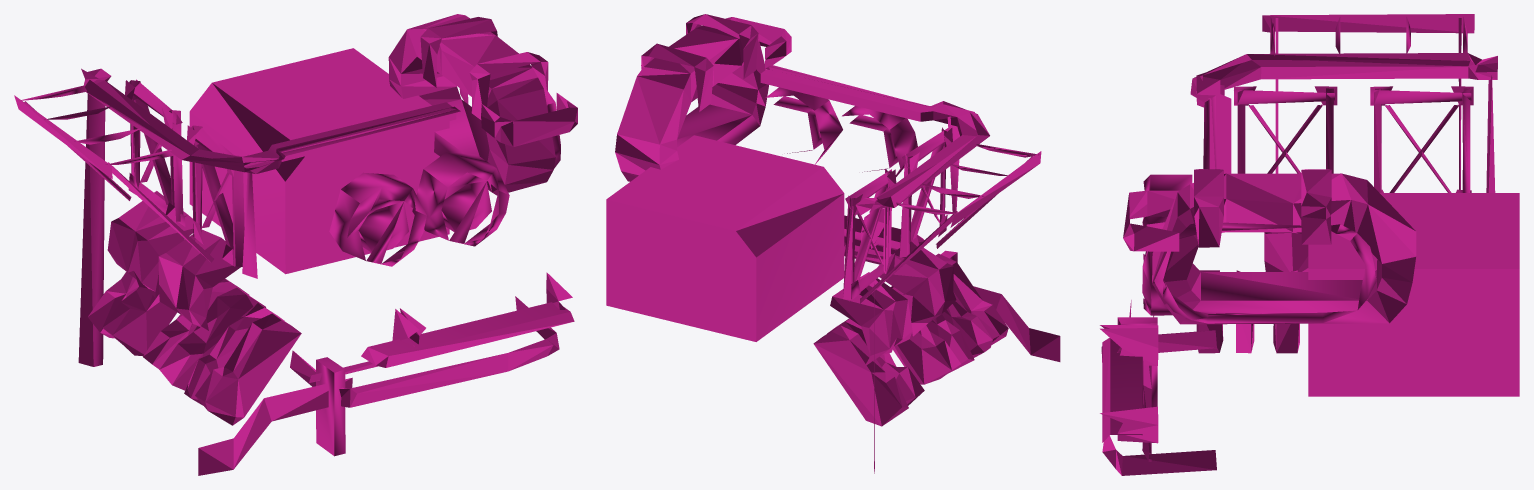
Rendered from backdrop_top_e_lod2.glb.
3 views of the same model, side by side, from view 1: azimuth 30°, elevation 25°; view 2: azimuth 150°, elevation 25°; view 3: azimuth 270°, elevation 25° (orthographic). The views are drawn at different scales.
Size of the model in its own units: 62.23 by 47.5 by 49.95.
